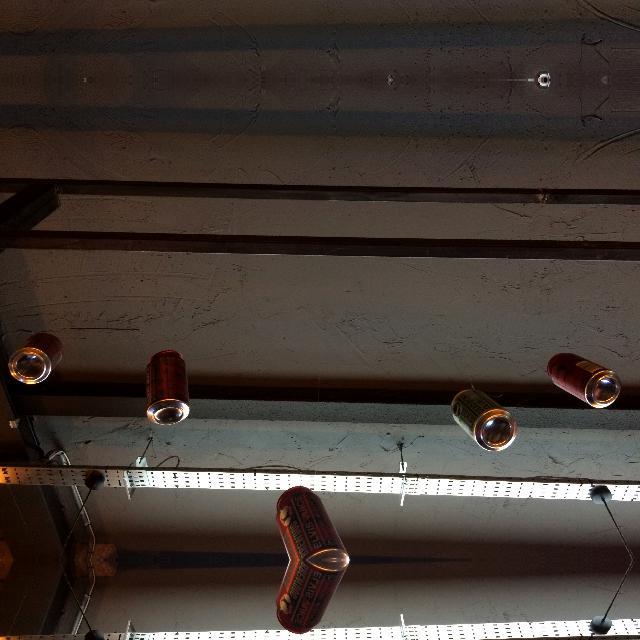Metal: (272, 483, 352, 559), (272, 561, 352, 637), (542, 349, 626, 411), (449, 384, 521, 454), (139, 346, 195, 428), (4, 328, 68, 389)
